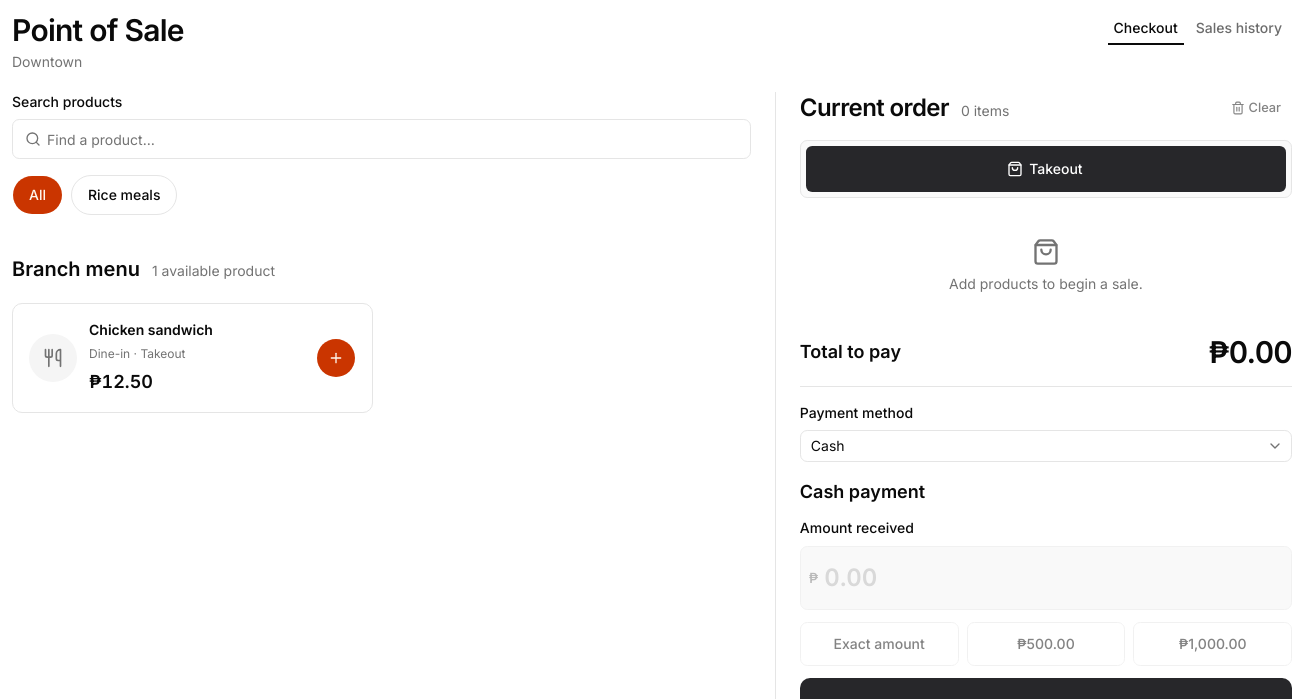
POS management › separates checkout and history without discarding the cart
Expected: the text "Downtown" is shown, [12,53,82,70]
Expected: the search field labelled "Search products" is shown, [41,123,750,155]
Click the button named "Add Chicken sandwich" at (336, 358), box [316,338,356,378]
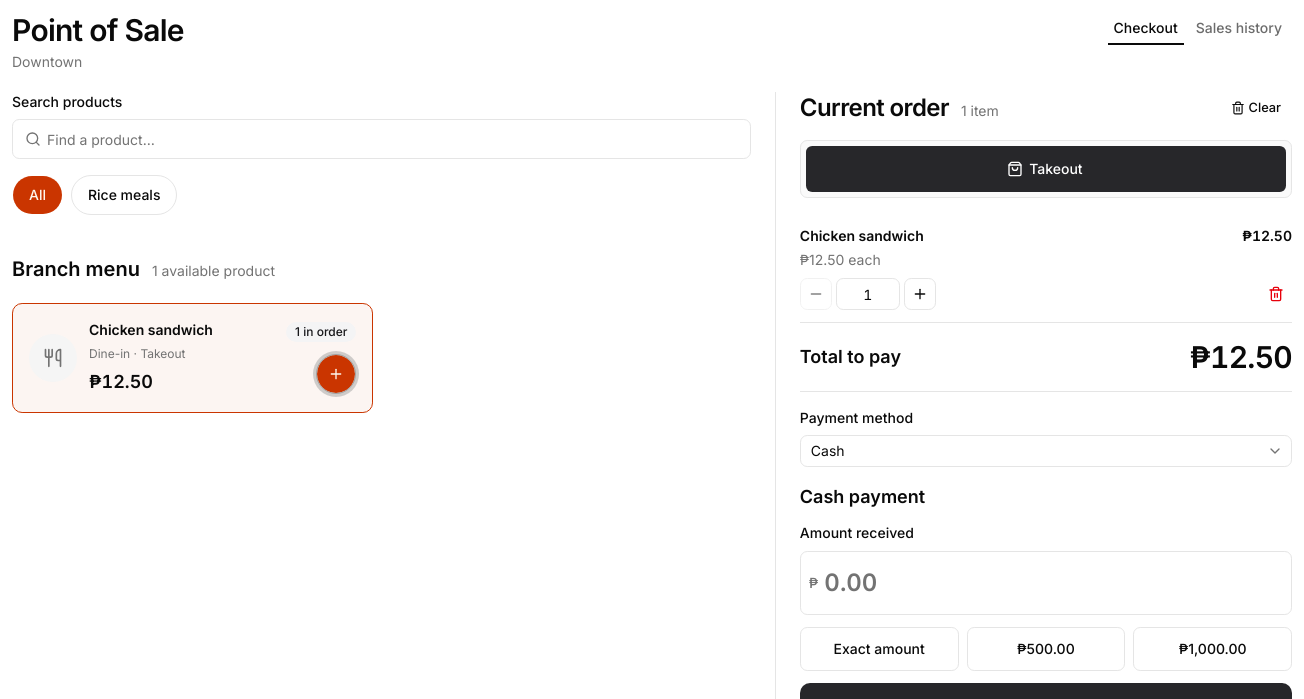
Click the tab "Sales history" at (1239, 28), box [1189,16,1289,40]
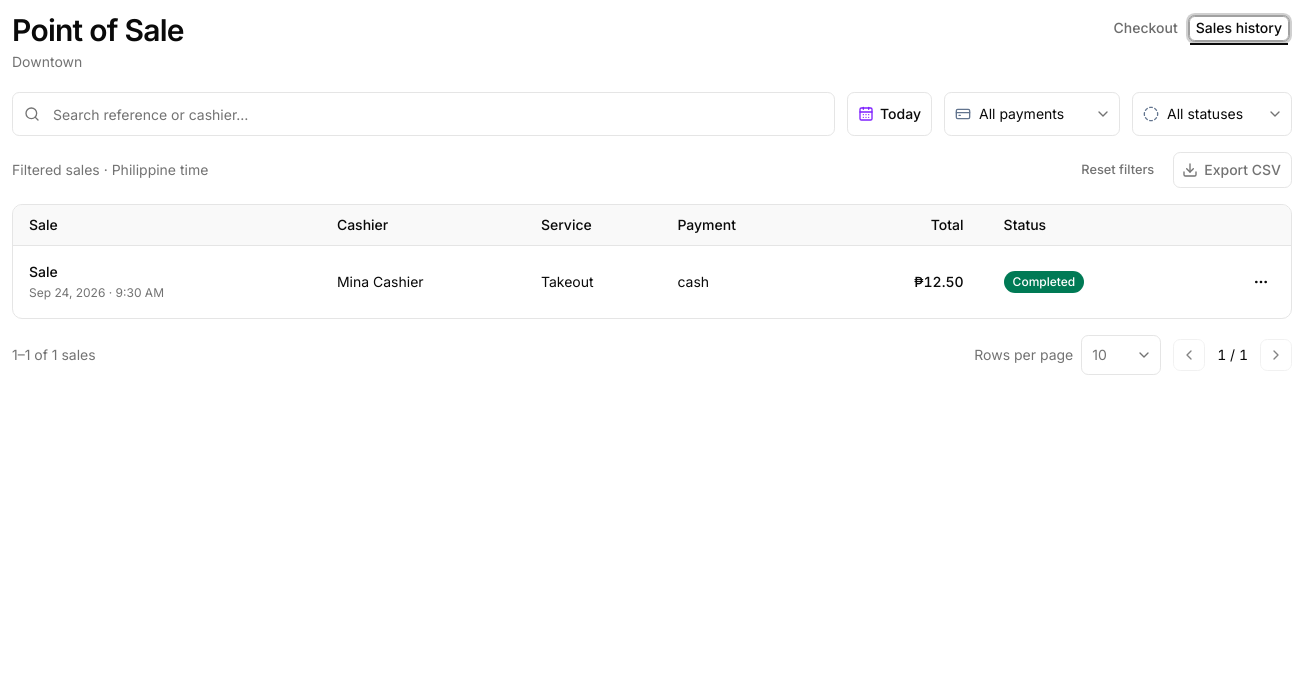
Expected: the table named "Sales history" is shown, [13,205,1291,318]
Expected: the text "Mina Cashier" is shown, [329,245,533,318]
Click the tab "Checkout" at (1146, 28), box [1107,16,1185,40]
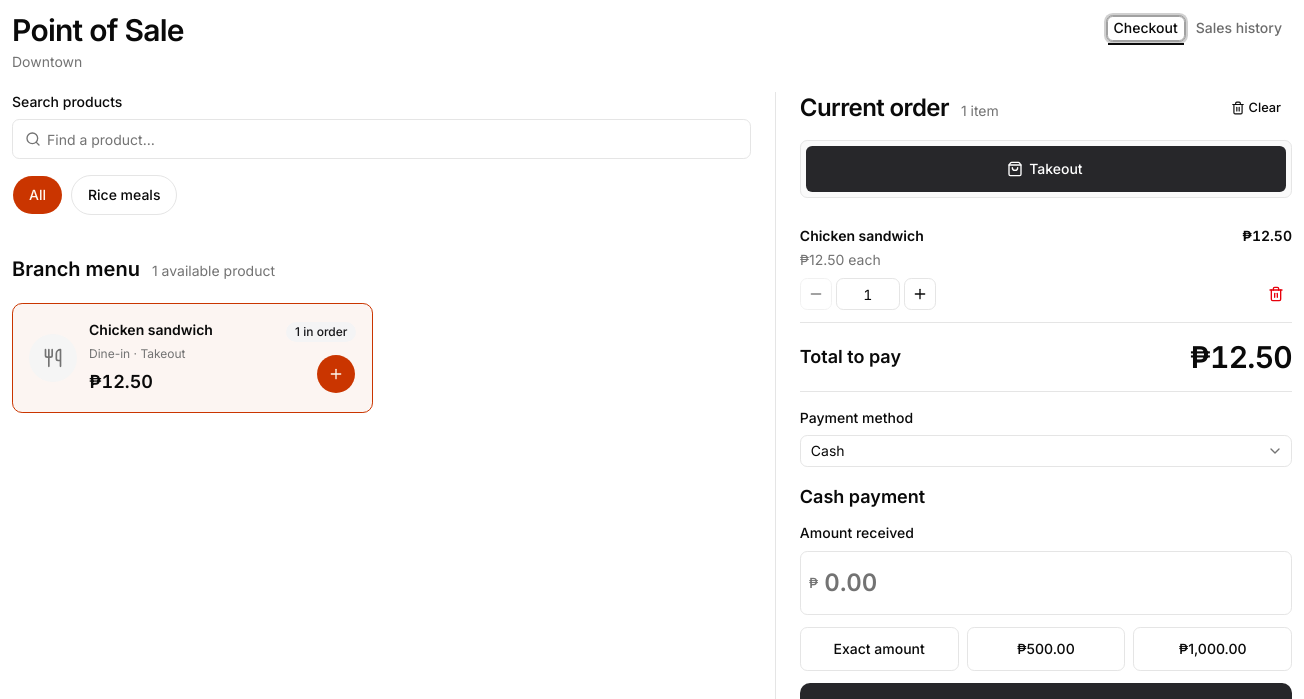
Expected: the field named "Quantity for Chicken sandwich" holds "1", [836,278,900,310]
